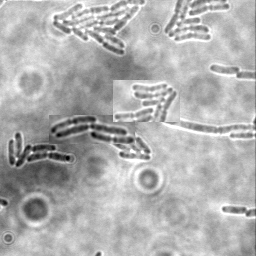Dividing: (161, 114, 255, 133), (221, 204, 248, 215)
Microcolony: (51, 1, 147, 56), (162, 1, 231, 44), (113, 80, 180, 122), (49, 115, 135, 144), (8, 130, 72, 167), (106, 124, 153, 160), (208, 63, 240, 74)
